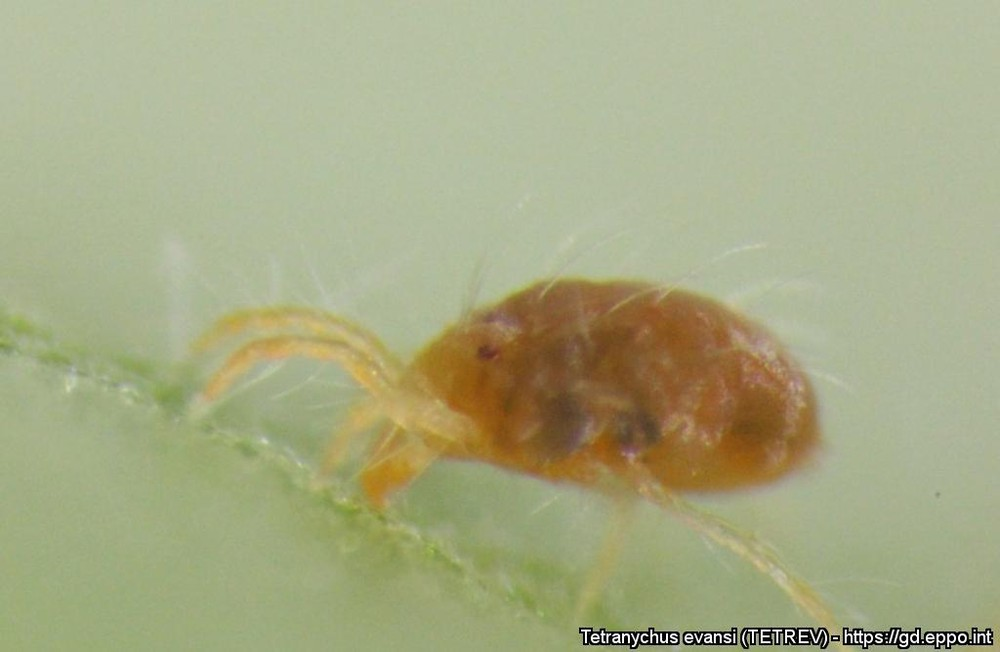Aracnido Rojo: (169, 225, 879, 620)
